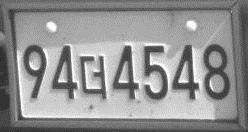4: (49, 43, 80, 101), (170, 42, 200, 101), (110, 44, 139, 100)
5: (141, 43, 171, 102)
8: (199, 42, 231, 100)
9: (22, 44, 48, 99)
더: (78, 53, 108, 99)
